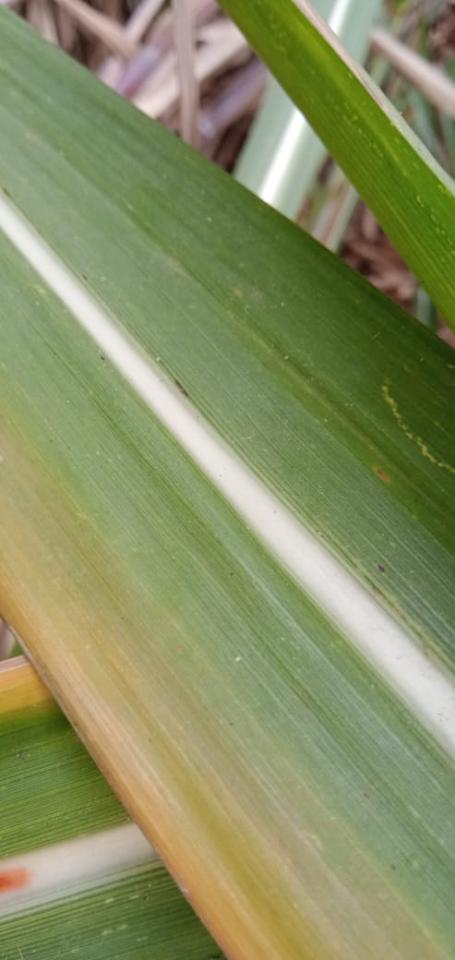RedRot: (0, 867, 35, 893)
Rust: (170, 377, 192, 400), (372, 467, 392, 484), (375, 564, 387, 575)
Yellow: (0, 549, 295, 959), (0, 654, 53, 714)
